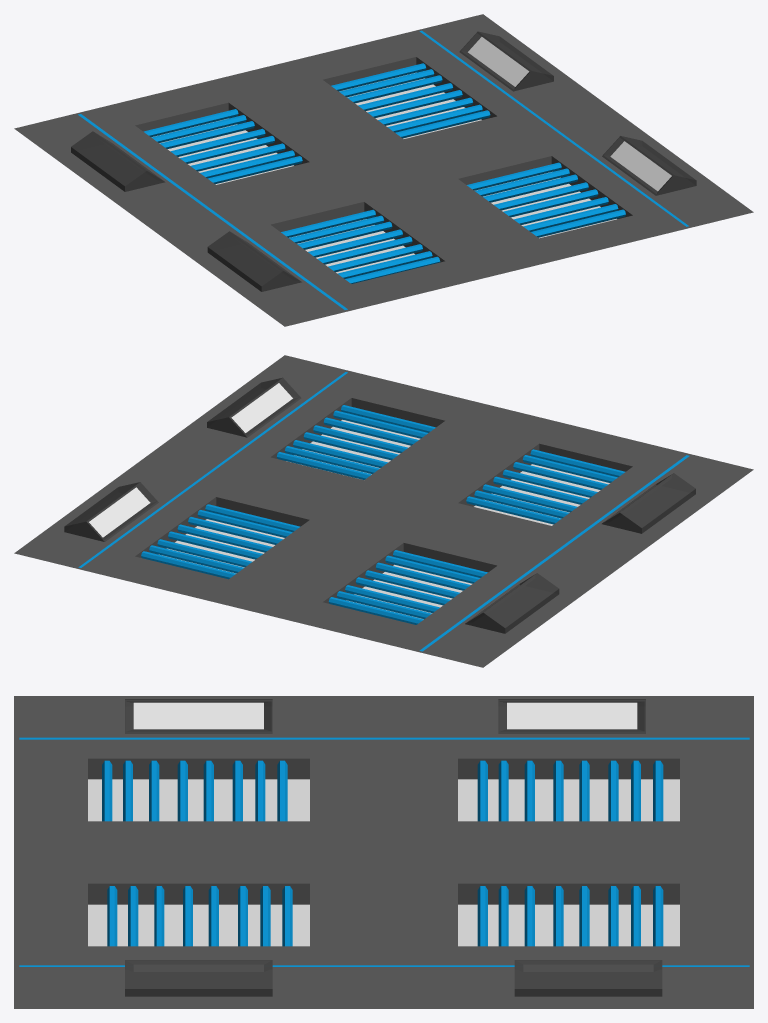
Rendered from piso1.fbx.
3 renders of one model, top to bottom at view 1: azimuth 30°, elevation 25°; view 2: azimuth 150°, elevation 25°; view 3: azimuth 270°, elevation 25°, orthographic. The views are drawn at different scales.
Visible parts, largest first — view 1: polySurface69; view 2: polySurface69; view 3: polySurface69.
Boxes of the visible parts, x1=… form: polySurface69: x1=14, y1=14, x2=753, y2=326; polySurface69: x1=14, y1=355, x2=753, y2=667; polySurface69: x1=14, y1=696, x2=753, y2=1008.
Size of the model in its own units: 6.5 by 0.4231 by 6.5.
